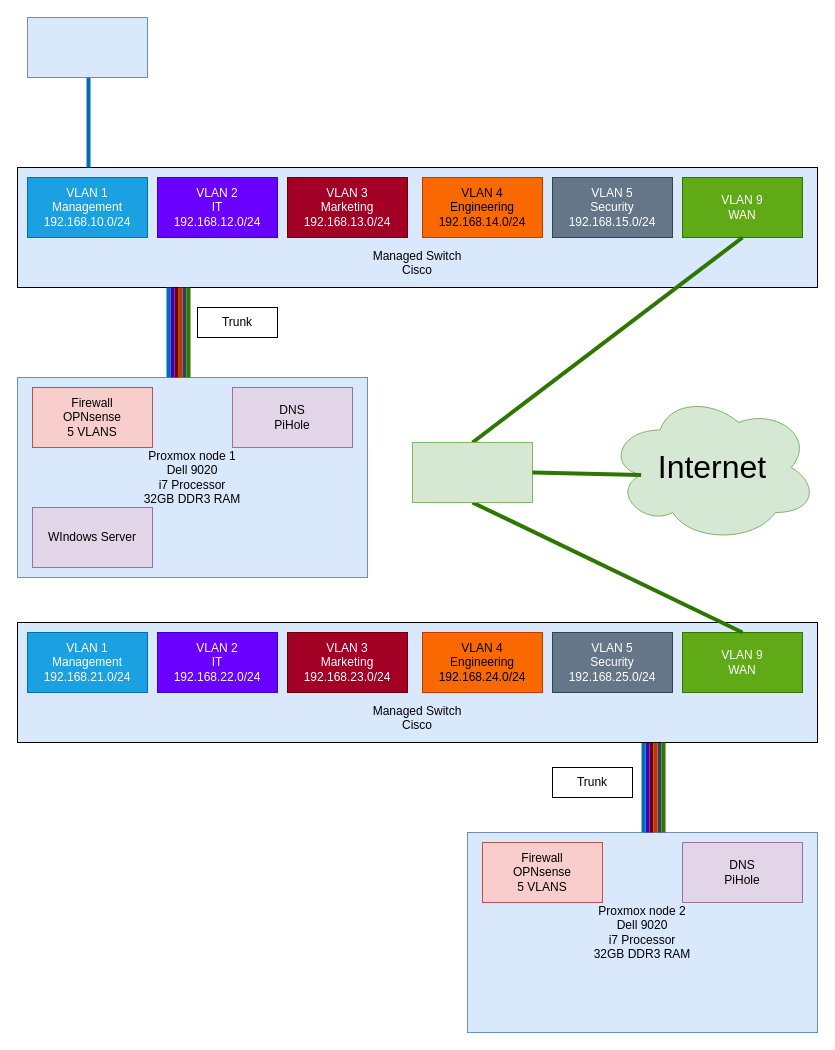
This 835x1050 diagram has some shape labels left out. The shapes that lost their labels are listed below. From the top down, each one's centre as x and y in pixels, then its label:
(x=87, y=47): Management PC All-In-One
(x=472, y=472): Router (for DHCP)
